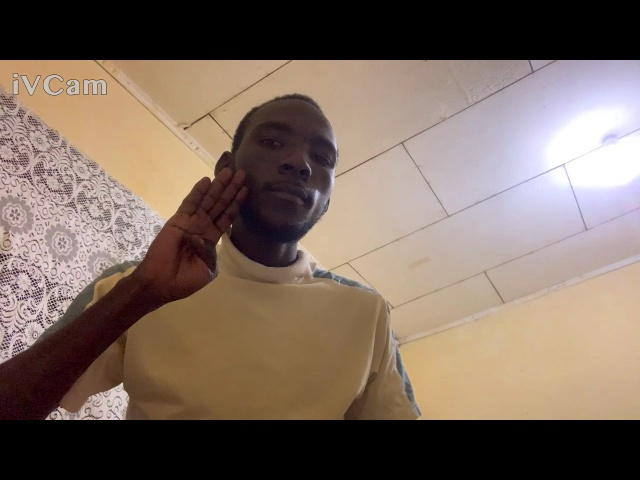s'il te plait: (132, 165, 251, 312)
